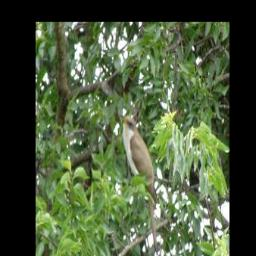Cuckoo: (117, 110, 160, 256)
